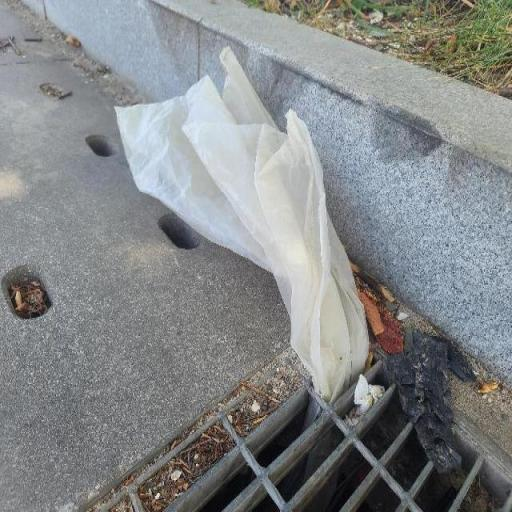plastic-bag: (112, 42, 370, 396)
